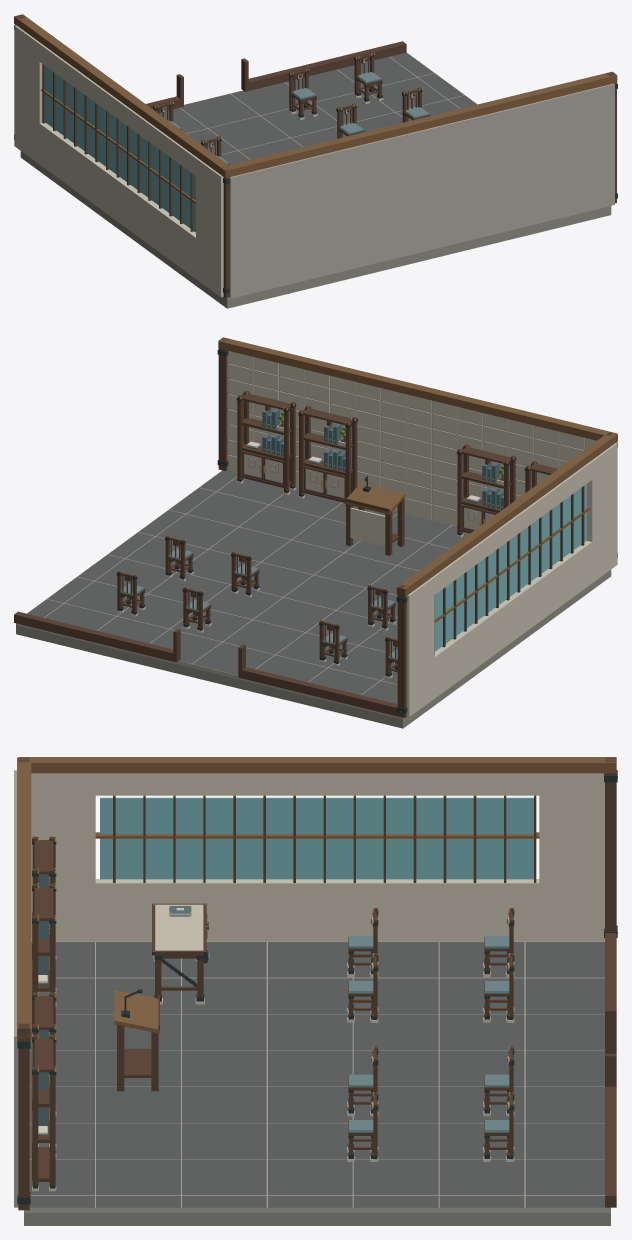
3 views of the same model, one above another, from view 1: azimuth 30°, elevation 25°; view 2: azimuth 150°, elevation 25°; view 3: azimuth 270°, elevation 25° (orthographic). The views are drawn at different scales.
Visible parts, largest first — view 1: 真实窗洞、木梁与切角房间墙, 分层实心台基与独立石铺面, 餐椅 (×4); view 2: 真实窗洞、木梁与切角房间墙, 分层实心台基与独立石铺面, 书架书柜 · 用途材质派生 (×3), 餐椅 (×6), 连续斜承稿台、开放后格与话筒; view 3: 分层实心台基与独立石铺面, 真实窗洞、木梁与切角房间墙, 餐椅 (×8), 书架书柜 · 用途材质派生 (×4), 通用工作桌, 连续斜承稿台、开放后格与话筒.
Part boxes in pixels (x1=…): 真实窗洞、木梁与切角房间墙: x1=14, y1=14, x2=617, y2=298; 分层实心台基与独立石铺面: x1=20, y1=52, x2=611, y2=308; 餐椅 (×4): x1=288, y1=52, x2=430, y2=138; 真实窗洞、木梁与切角房间墙: x1=14, y1=337, x2=617, y2=717; 分层实心台基与独立石铺面: x1=16, y1=470, x2=611, y2=728; 书架书柜 · 用途材质派生 (×3): x1=236, y1=390, x2=516, y2=537; 餐椅 (×6): x1=116, y1=535, x2=396, y2=666; 连续斜承稿台、开放后格与话筒: x1=344, y1=476, x2=405, y2=555; 分层实心台基与独立石铺面: x1=24, y1=941, x2=610, y2=1225; 真实窗洞、木梁与切角房间墙: x1=14, y1=757, x2=617, y2=1210; 餐椅 (×8): x1=347, y1=907, x2=514, y2=1161; 书架书柜 · 用途材质派生 (×4): x1=32, y1=836, x2=56, y2=1191; 通用工作桌: x1=152, y1=903, x2=209, y2=1004; 连续斜承稿台、开放后格与话筒: x1=114, y1=989, x2=159, y2=1091.
Size of the model in its own units: 9.04 by 3.08 by 8.44.
24 materials, 24 textured.
